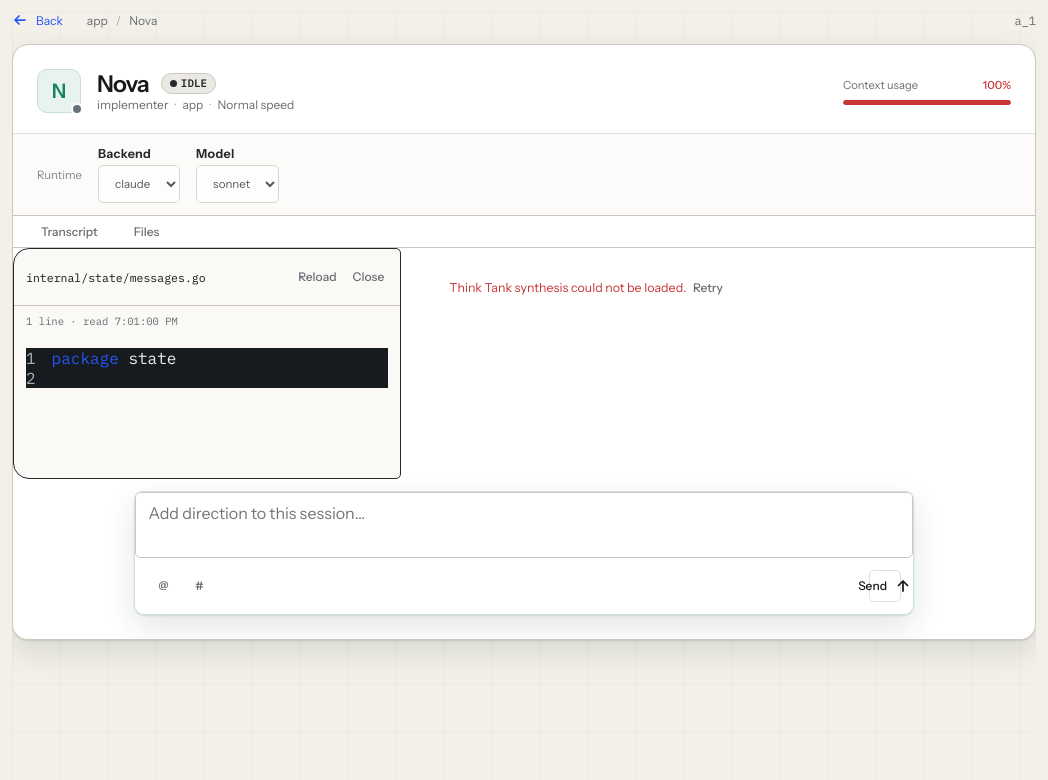
Test case: the open file on the agent route › reopens the file named by ?file= and clears it on Close
The width and height of the screenshot is (1048, 780).
Expected: the text "internal/state/messages.go" is shown, [26,270,206,284]
Click the button "Close" at (368, 277), box [348,261,388,293]
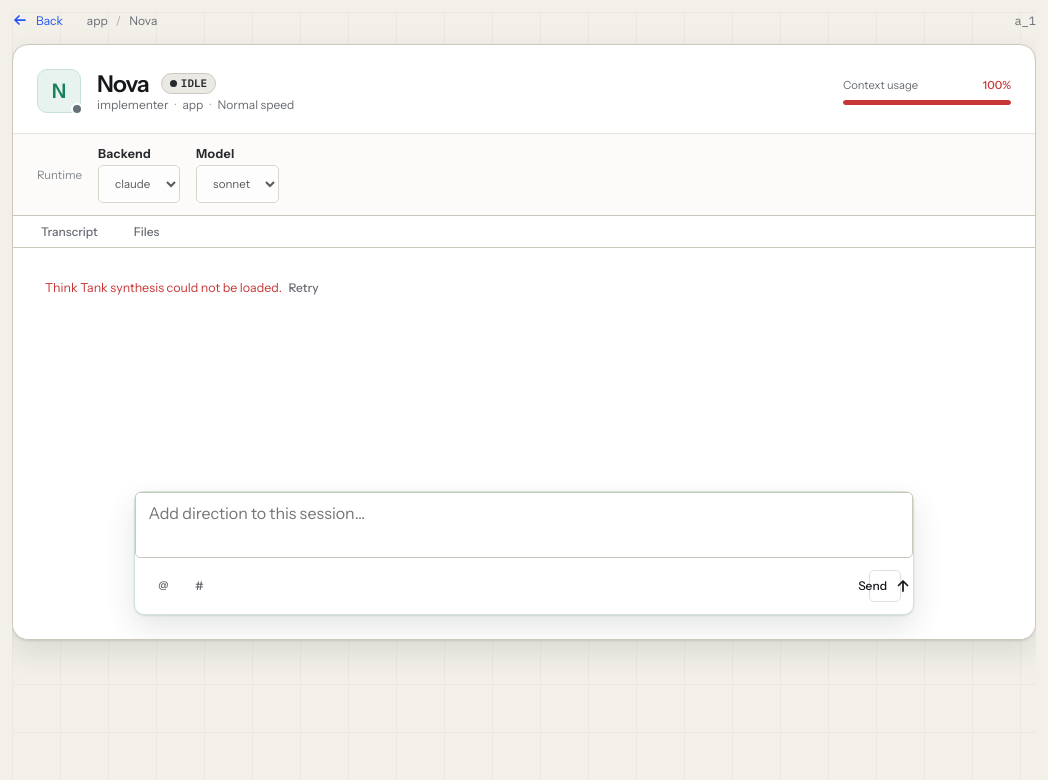
Now the text "internal/state/messages.go" is gone
